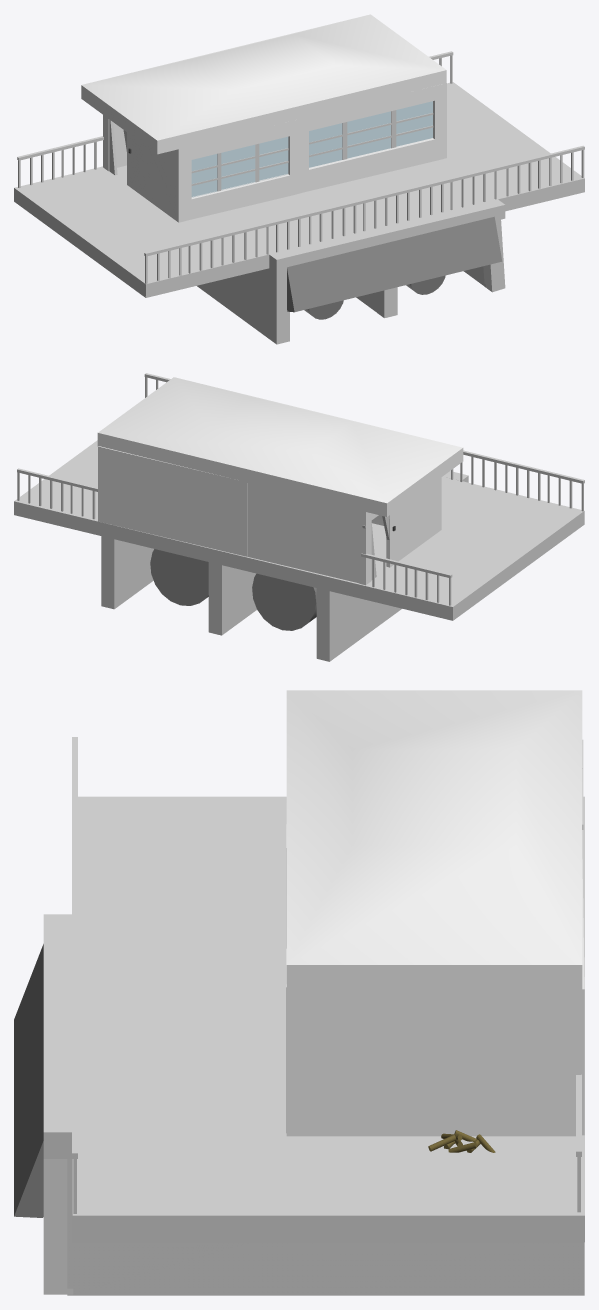
The model's file is EnergyModel.fbx.
3 renders of one model, top to bottom at view 1: azimuth 30°, elevation 25°; view 2: azimuth 150°, elevation 25°; view 3: azimuth 270°, elevation 25°, orthographic. The views are drawn at different scales.
Visible parts, largest first — view 1: EnergyFarm; view 2: EnergyFarm; view 3: EnergyFarm.
Part boxes in pixels (bbox=[...]): EnergyFarm: bbox=[14, 14, 584, 344]; EnergyFarm: bbox=[14, 373, 584, 661]; EnergyFarm: bbox=[14, 690, 584, 1295].
Size of the model in its own units: 33.39 by 13.69 by 19.34.
